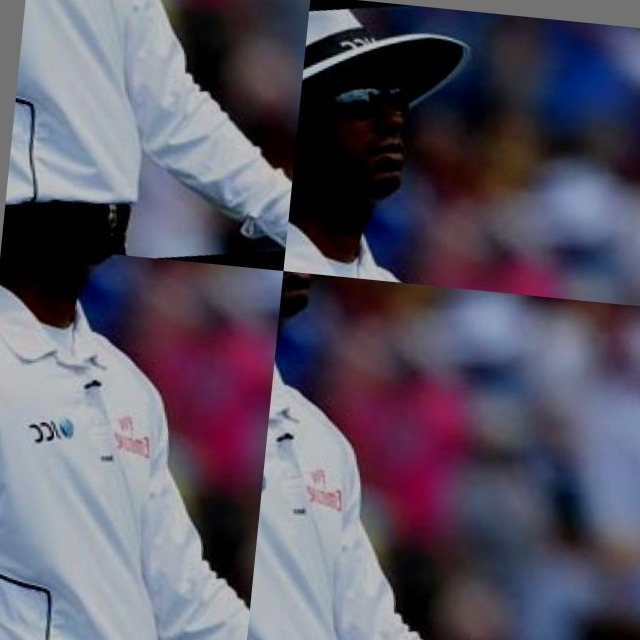No_Action: (244, 271, 640, 640), (283, 13, 450, 285)
No_Ball: (0, 243, 283, 640), (2, 0, 311, 271)
